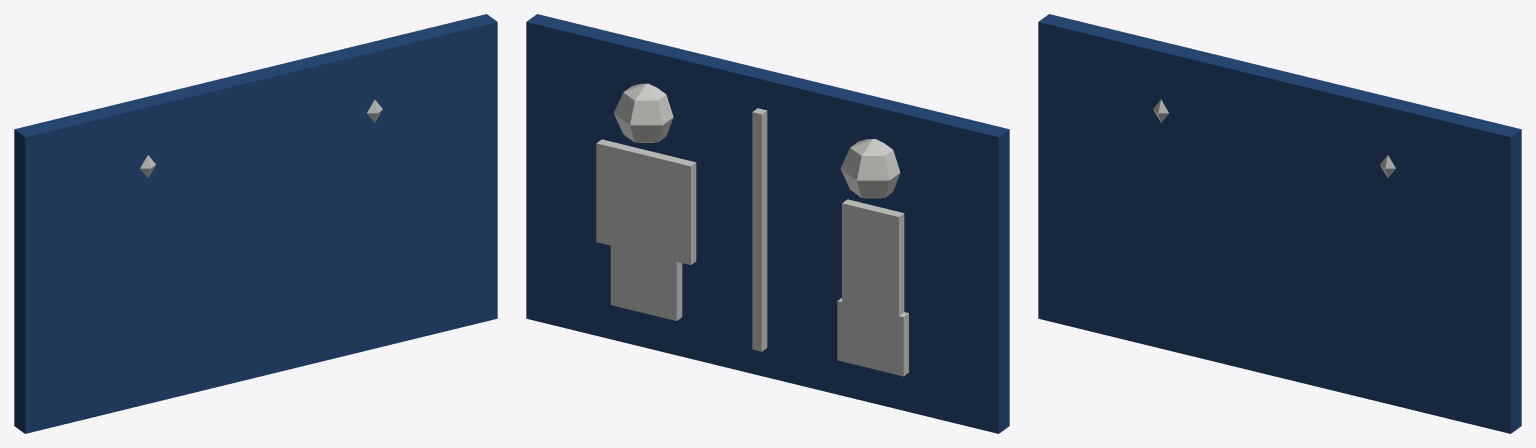
File: restroom_sign.glb
The picture shows the model from 3 angles, left to right: view 1: azimuth 30°, elevation 25°; view 2: azimuth 150°, elevation 25°; view 3: azimuth 330°, elevation 25°; orthographic projection.
Parts seen in each view (by area): view 1: restroom_sign; view 2: restroom_sign; view 3: restroom_sign.
Part boxes in pixels (box(x1,y1,x2,y2)): restroom_sign: box(14, 14, 497, 433); restroom_sign: box(526, 14, 1009, 433); restroom_sign: box(1038, 14, 1521, 433).
Bounding box in the file's own units: 0.5 × 0.3 × 0.06.
